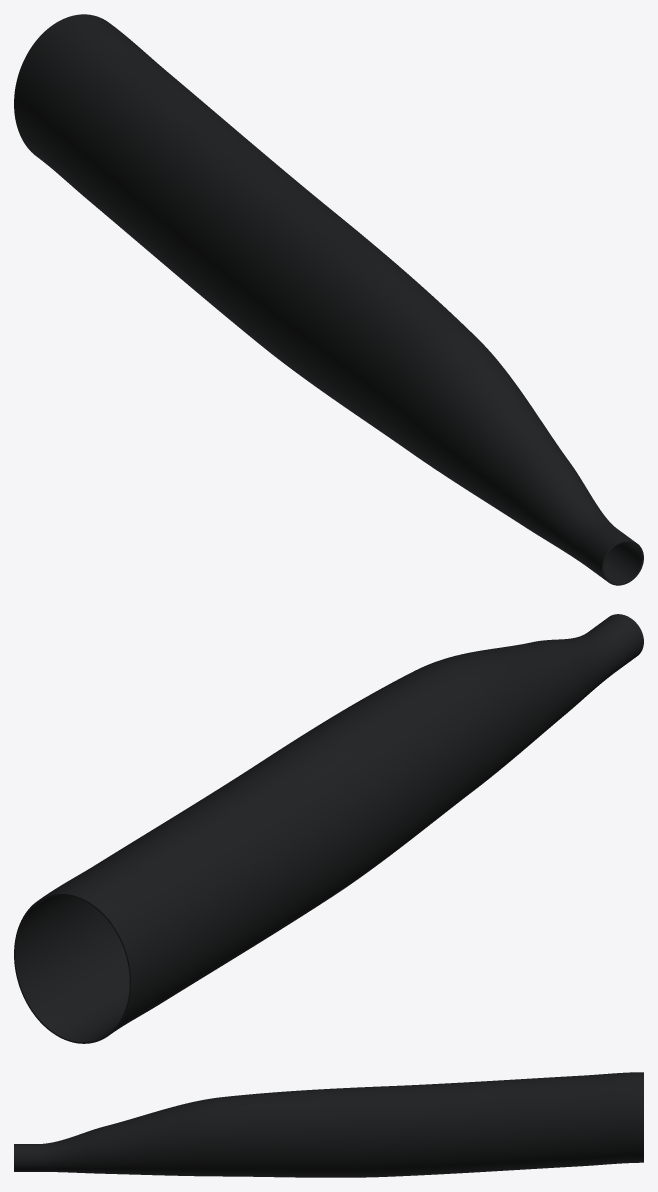
File: exhaust-silencer-body-inspection.glb
3 views of the same model, one above another, from view 1: azimuth 30°, elevation 25°; view 2: azimuth 150°, elevation 25°; view 3: azimuth 270°, elevation 25° (orthographic). The views are drawn at different scales.
Visible parts, largest first — view 1: Rising hollow silencer main shell - conditional RDC; view 2: Rising hollow silencer main shell - conditional RDC; view 3: Rising hollow silencer main shell - conditional RDC.
Boxes of the visible parts, x1,y1,x2,y2 form: Rising hollow silencer main shell - conditional RDC: (14,14,643,585); Rising hollow silencer main shell - conditional RDC: (14,614,643,1043); Rising hollow silencer main shell - conditional RDC: (14,1072,643,1177).
Size of the model in its own units: 0.08 by 0.1131 by 0.6488.
Materials: 1 (1 with a texture image).
